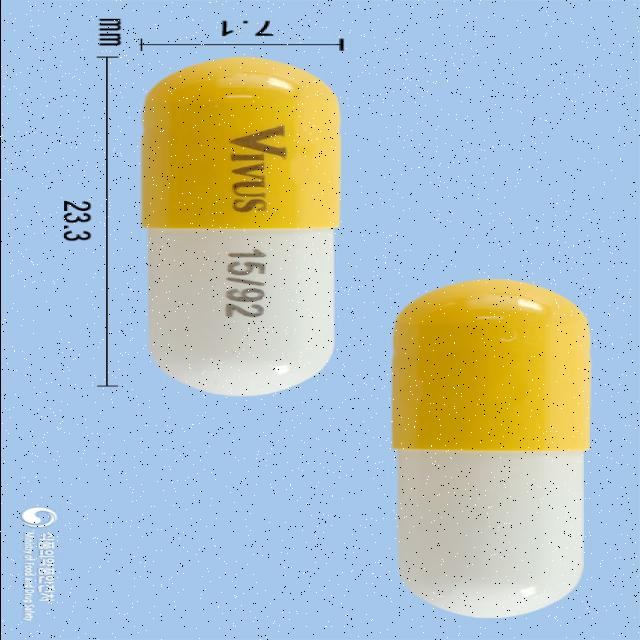Qsymia Cap-15mg: (136, 58, 342, 398)
